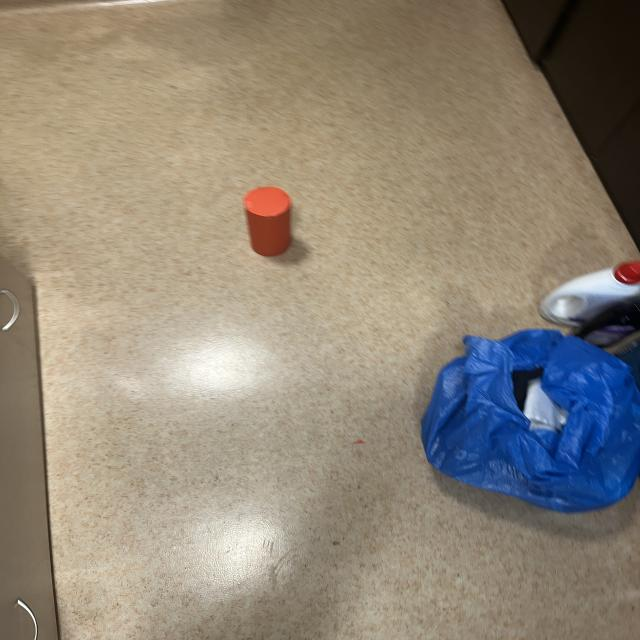przeszkoda: (243, 187, 291, 256)
